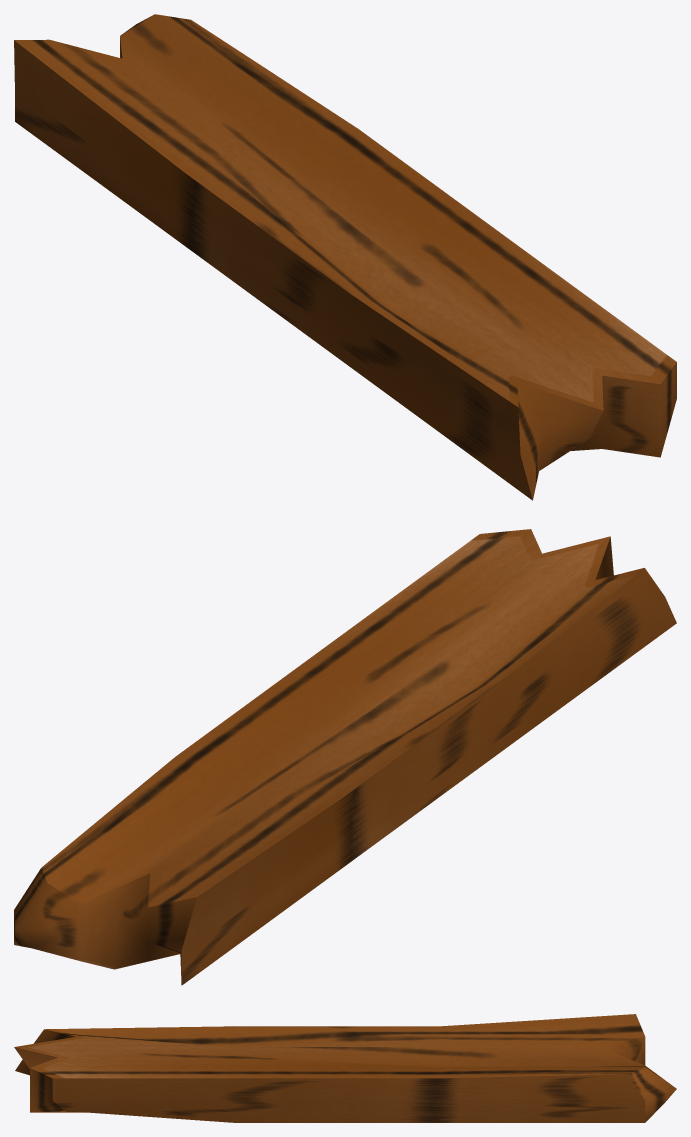
File: BrokenBridgeWood.fbx
3 renders of one model, top to bottom at view 1: azimuth 30°, elevation 25°; view 2: azimuth 150°, elevation 25°; view 3: azimuth 270°, elevation 25°, orthographic. The views are drawn at different scales.
Visible parts, largest first — view 1: pCube8; view 2: pCube8; view 3: pCube8.
Part boxes in pixels (bbox=[...]): pCube8: bbox=[14, 14, 676, 500]; pCube8: bbox=[14, 529, 676, 985]; pCube8: bbox=[14, 1014, 676, 1122].
Bounding box in the file's own units: 0.5246 × 0.2437 × 2.69.
